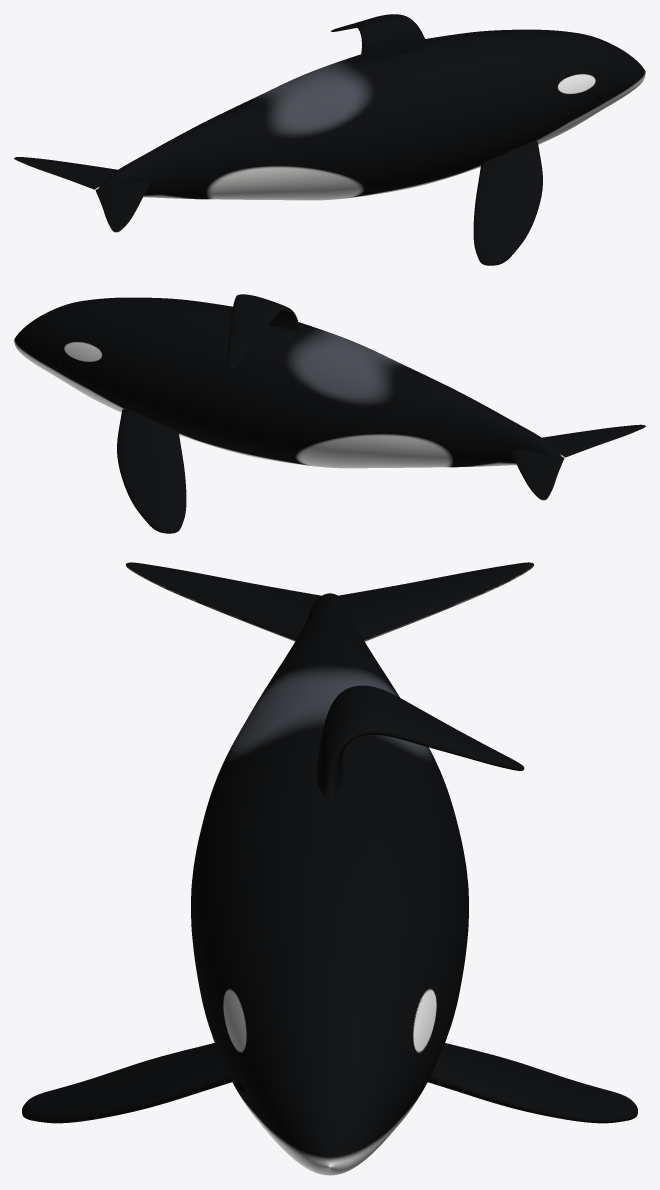
Rendered from orcaPort.glb.
3 renders of one model, top to bottom at view 1: azimuth 30°, elevation 25°; view 2: azimuth 150°, elevation 25°; view 3: azimuth 270°, elevation 25°, orthographic. The views are drawn at different scales.
Visible parts, largest first — view 1: skin; view 2: skin; view 3: skin.
Boxes of the visible parts, <box> form: skin: <box>14,14,645,265</box>; skin: <box>14,294,645,533</box>; skin: <box>22,562,637,1175</box>.
Bounding box in the file's own units: 4.1 × 1.29 × 1.88.
1 material, 1 textured.
